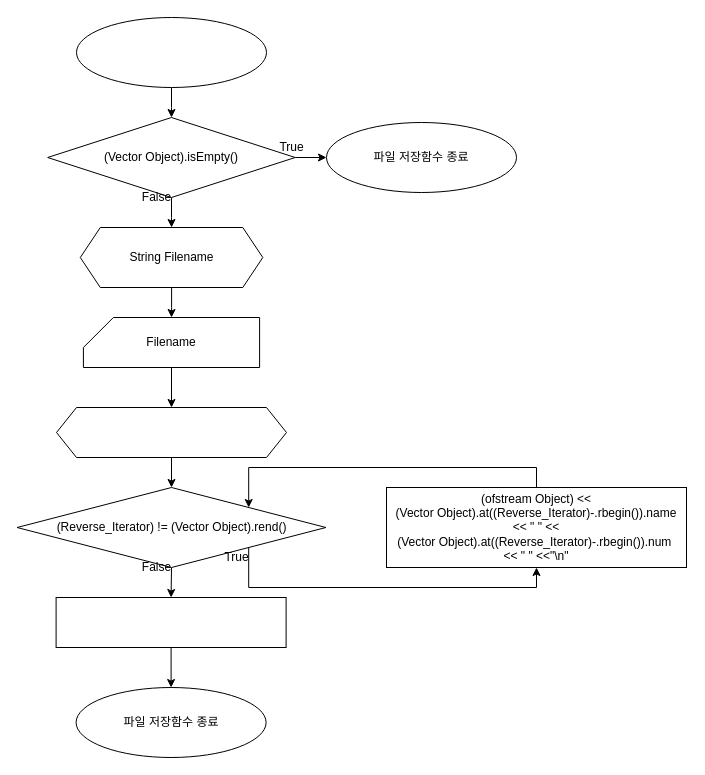
Image size: 705x775. Some labels were removed from this diagram. Each missing label, with the centre of its shape:
(ofstream Object) ("Filename"): point (171, 432)
(ofstream Object).close(): point (170, 622)
파일 저장함수 호출: point (171, 52)
